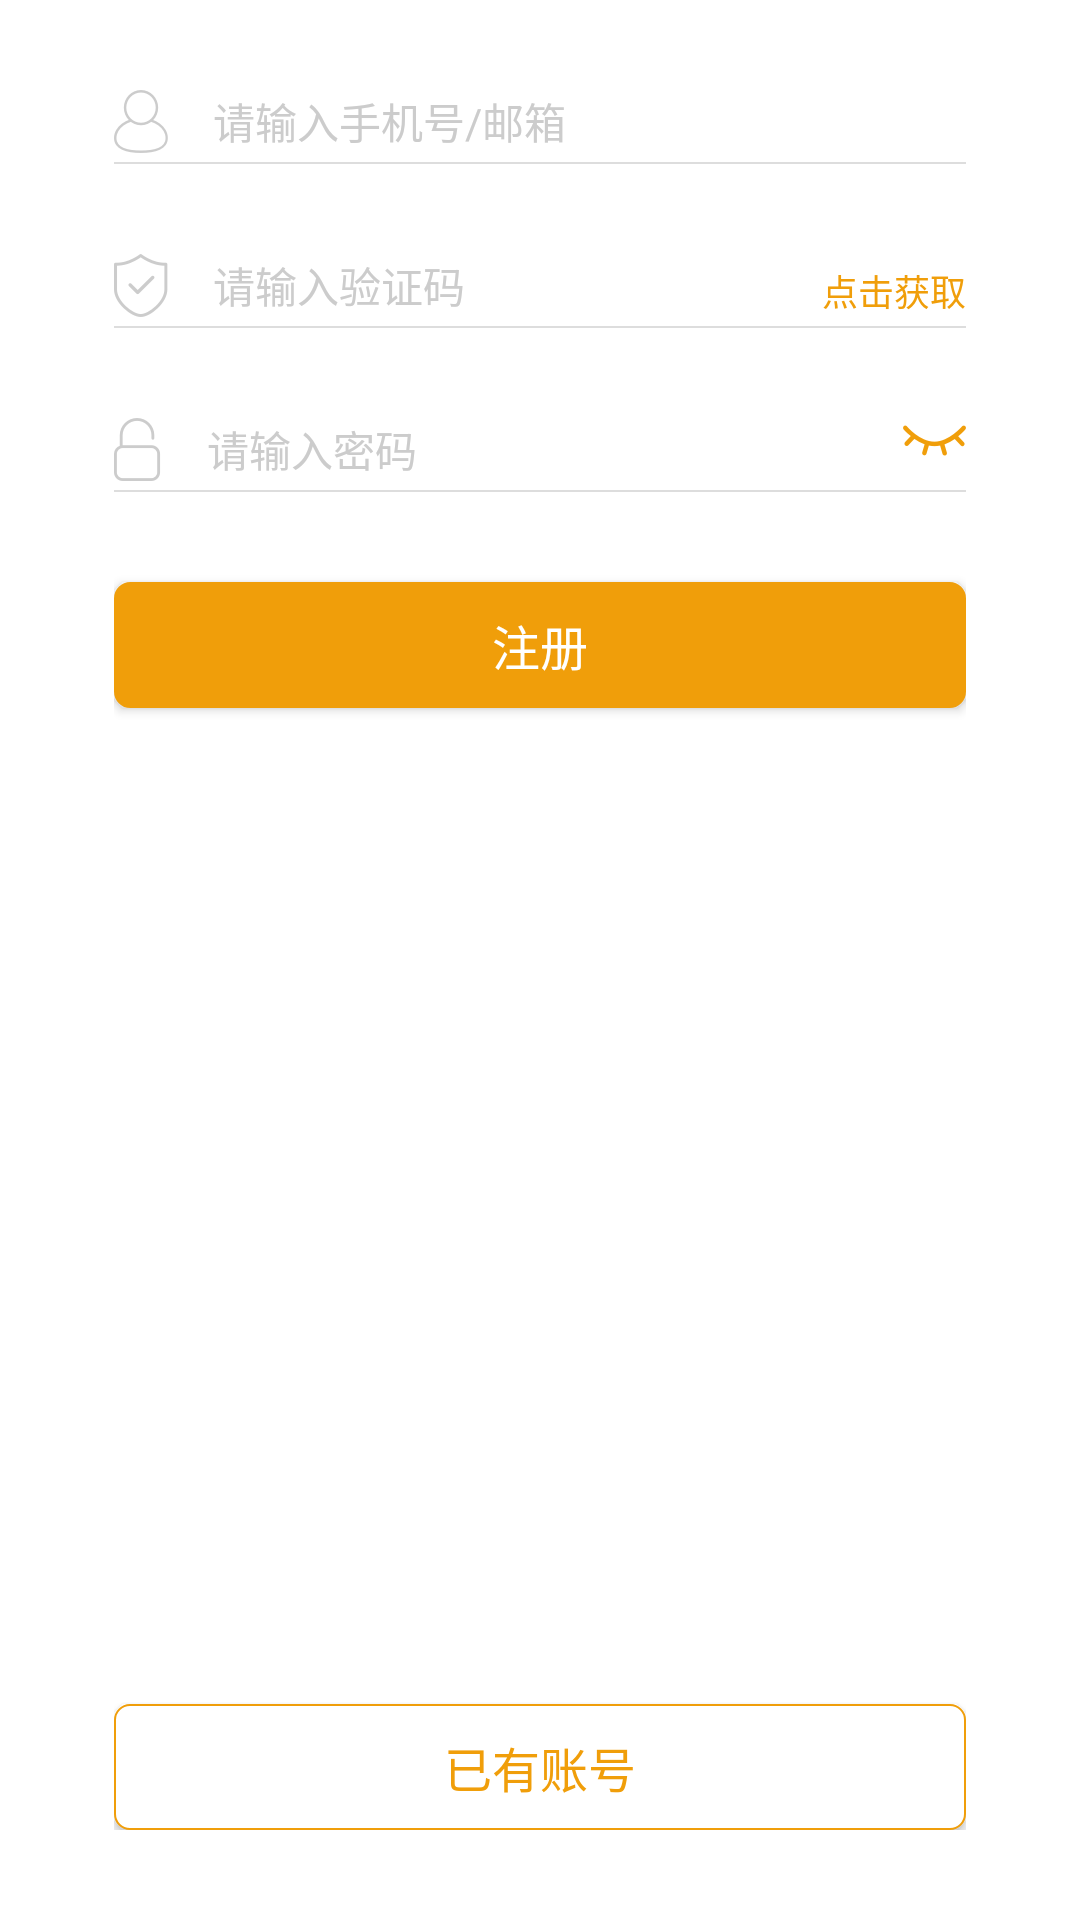

Icon bounding boxes for this 1080w x 1920h phone screenshot, format BBox(x1, y1, x2, y2):
password hide: BBox(903, 425, 966, 456)
